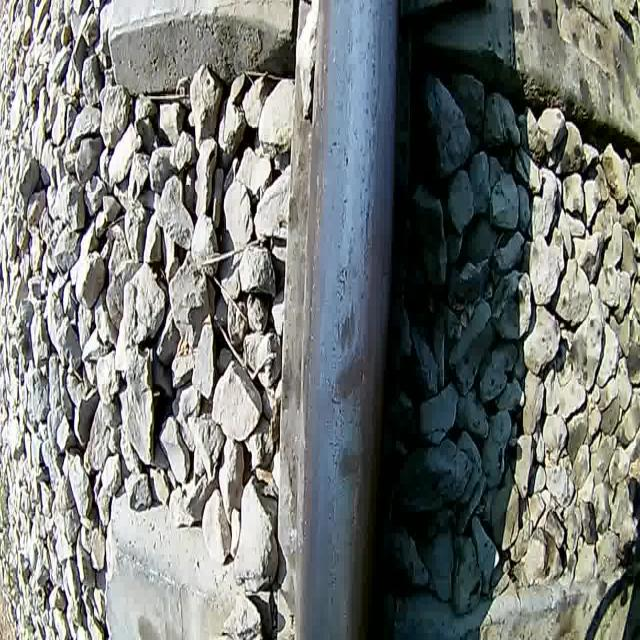Squats: (330, 355, 374, 409), (333, 294, 359, 352), (334, 441, 362, 481)
